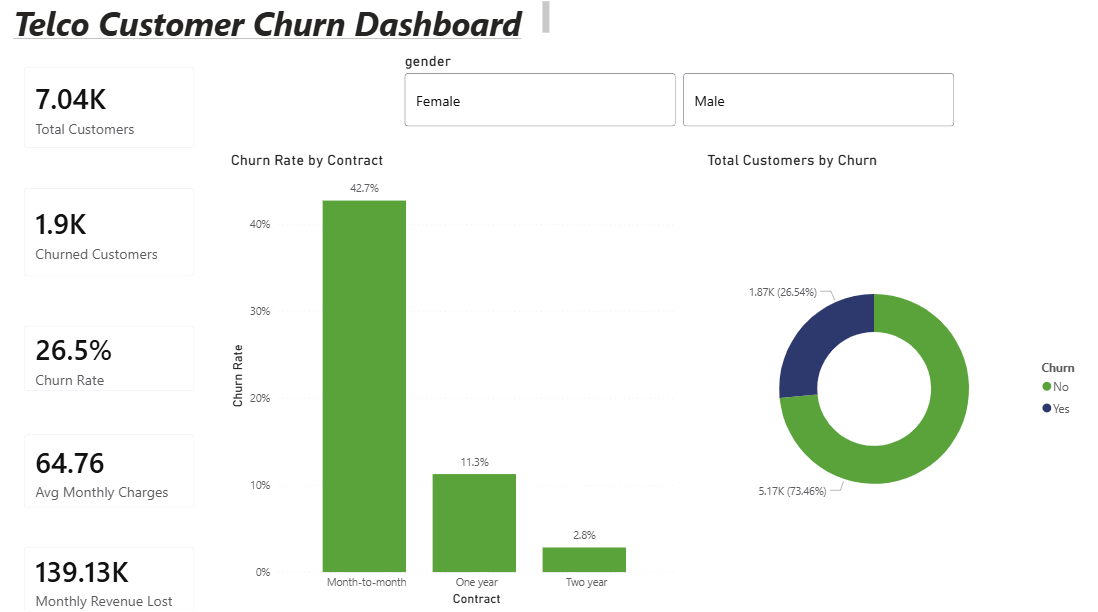

Layout of this report page (visuals, bound fields, positions):
{"tool":"powerbi","page":{"name":"Overview","canvas":[1280,720],"ordinal":0},"visuals":[{"type":"cardVisual","fields":{"Data":["Telco.Total Customers"]},"box":[16.5,63.1,229.2,127.6],"z":0},{"type":"cardVisual","fields":{"Data":["Telco.Churned Customers"]},"box":[16.5,201.7,229.2,135.8],"z":1000},{"type":"cardVisual","fields":{"Data":["Telco.Churn Rate"]},"box":[16.5,358.1,229.2,109.8],"z":2000},{"type":"cardVisual","fields":{"Data":["Telco.Avg Monthly Charges"]},"box":[16.5,483,229.2,118],"z":3000},{"type":"cardVisual","fields":{"Data":["Telco.Monthly Revenue Lost"]},"box":[16.5,612,229.2,108.4],"z":4000},{"type":"donutChart","fields":{"Category":["Telco.Churn"],"Y":["Telco.Total Customers"]},"box":[809.6,175.6,450.1,525.6],"z":5000},{"type":"clusteredColumnChart","fields":{"Category":["Telco.Contract"],"Y":["Telco.Churn Rate"]},"box":[266.2,175.6,517.3,525.6],"z":6000},{"type":"advancedSlicerVisual","fields":{"Values":["Telco.gender"]},"box":[463.8,63.1,639.5,90.6],"z":7000},{"type":"textbox","box":[16.5,0,623,52.1],"z":8000}]}

Visuals, with their boxes in screenshot pixels (x1, y1, x2, y2), scaled from the page's 1280x720 canvas onto the 1098x612 screenshot:
cardVisual - Telco.Total Customers: rect(14, 54, 211, 162)
cardVisual - Telco.Churned Customers: rect(14, 171, 211, 287)
cardVisual - Telco.Churn Rate: rect(14, 304, 211, 398)
cardVisual - Telco.Avg Monthly Charges: rect(14, 411, 211, 511)
cardVisual - Telco.Monthly Revenue Lost: rect(14, 520, 211, 611)
donutChart - Telco.Churn x Telco.Total Customers: rect(694, 149, 1081, 596)
clusteredColumnChart - Telco.Contract x Telco.Churn Rate: rect(228, 149, 672, 596)
advancedSlicerVisual - Telco.gender: rect(398, 54, 946, 131)
textbox: rect(14, 0, 549, 44)
